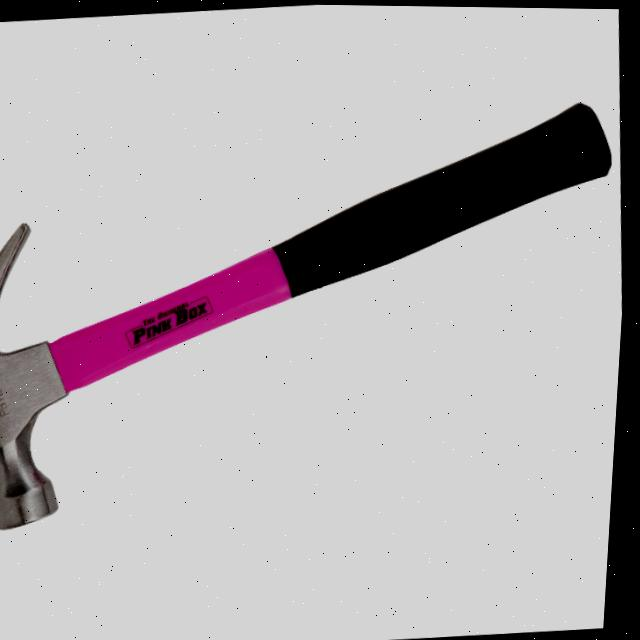hammer: (0, 80, 636, 546)
